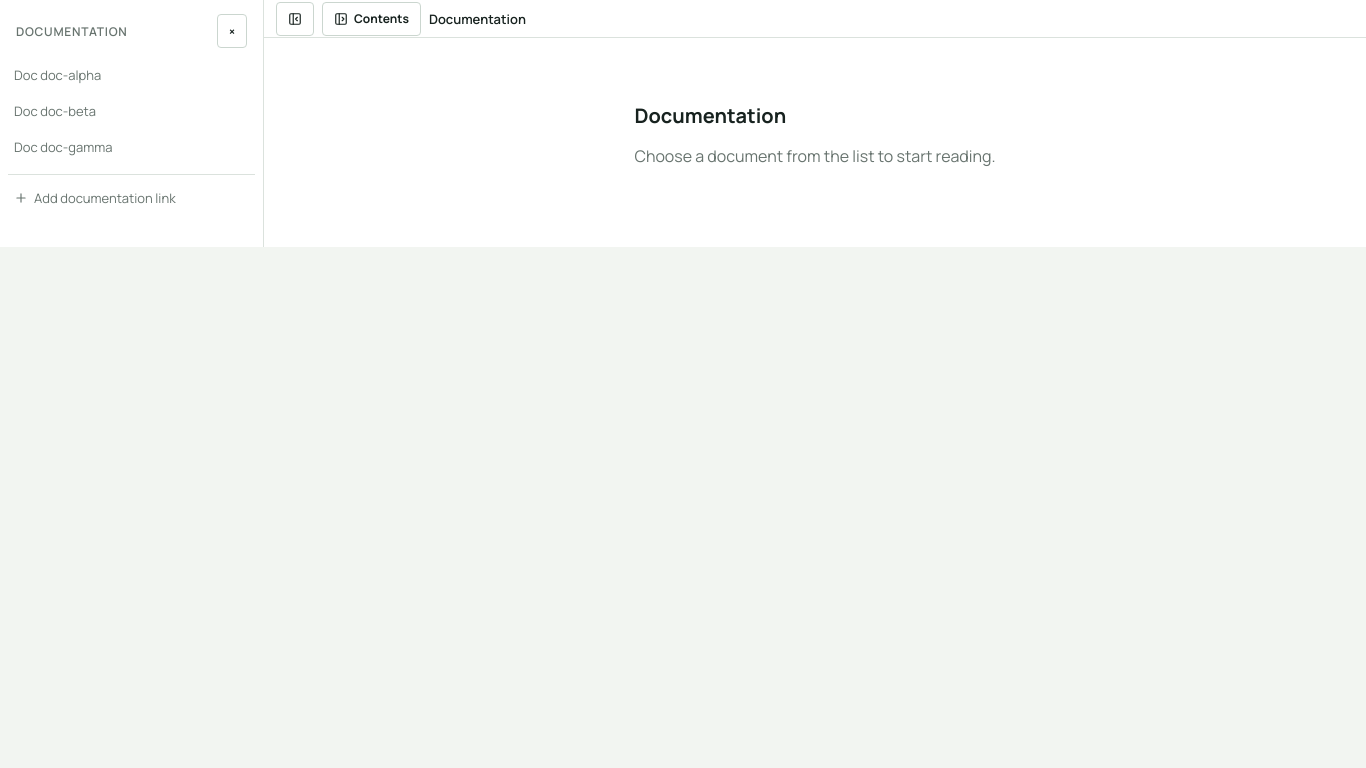
Test: DocumentationPage admin surface › refuses to submit a blank name or a non-http URL
Click the button with class "documentation-list-link" showing "Add documentation link" at x=132, y=198, box [8,183,255,213]
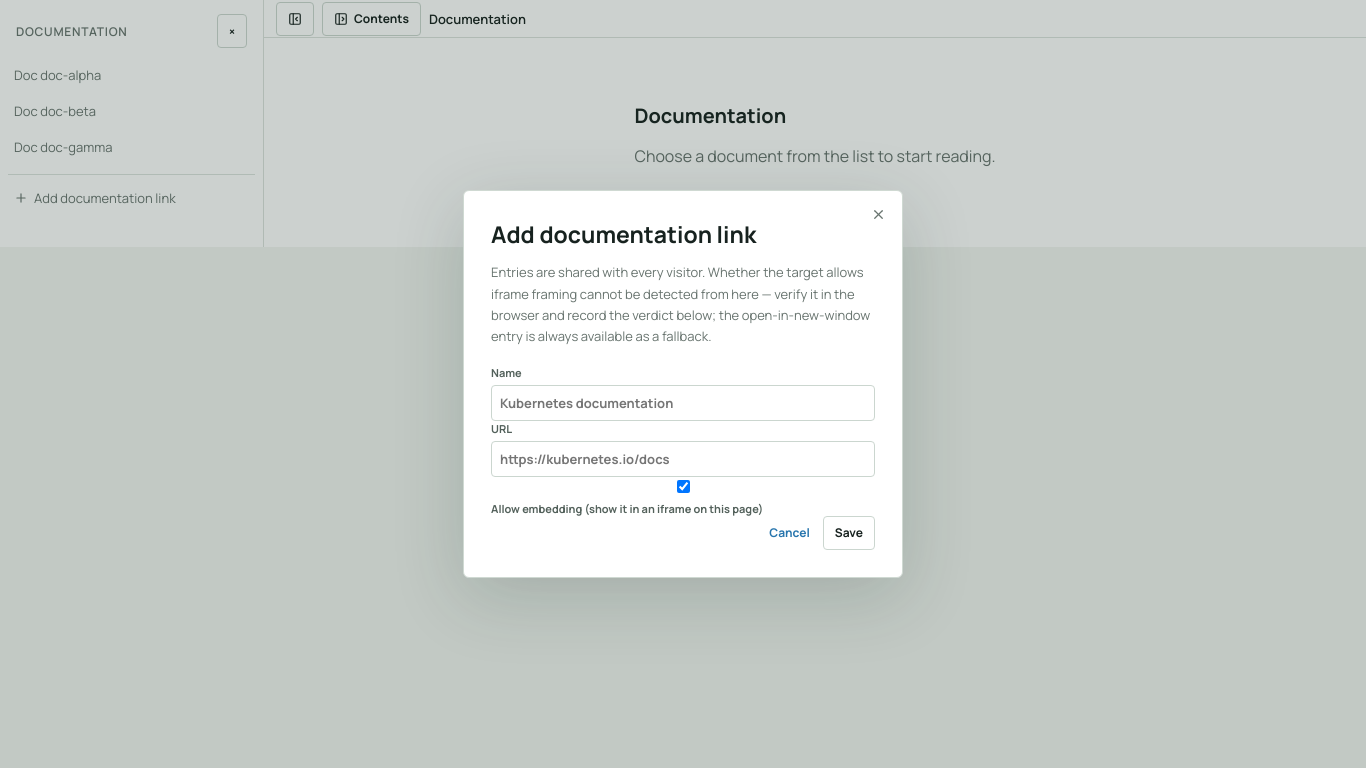
Submit the form, box [491,365,875,550]
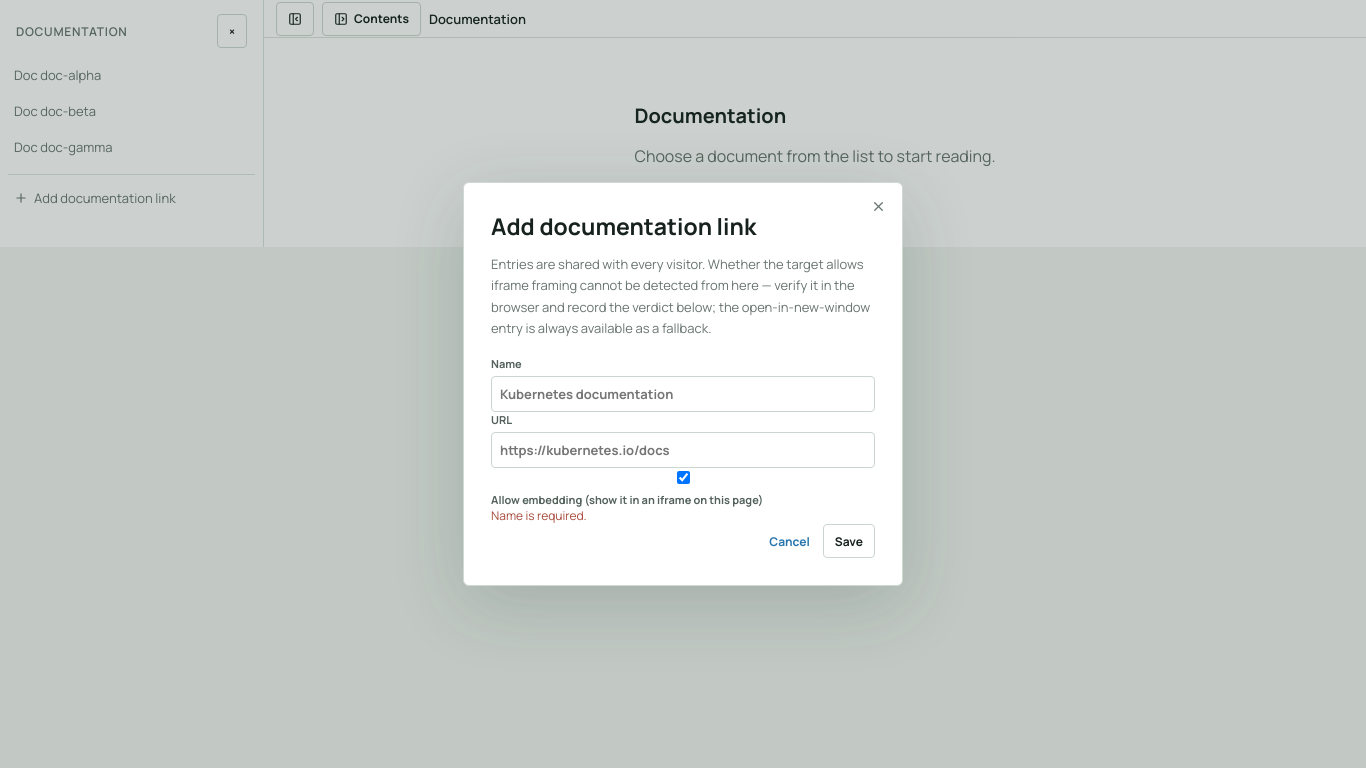
Check: the dialog with class "dialog" shows "Name is required.", box [491,507,587,524]
Type "Local mirror" into the field named "title" at x=683, y=394, box [491,376,875,412]
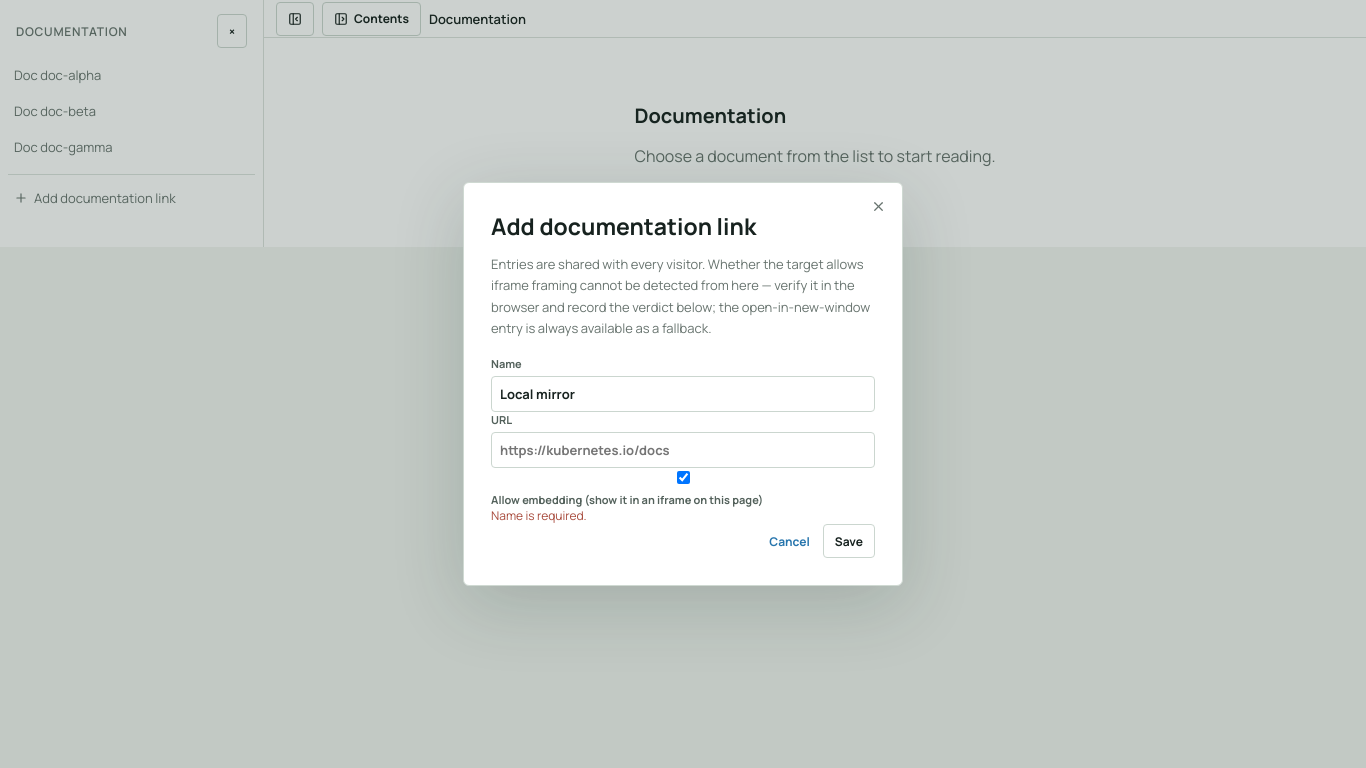
Type "ftp://mirror.internal/docs" into the field named "url" at x=683, y=450, box [491,432,875,468]
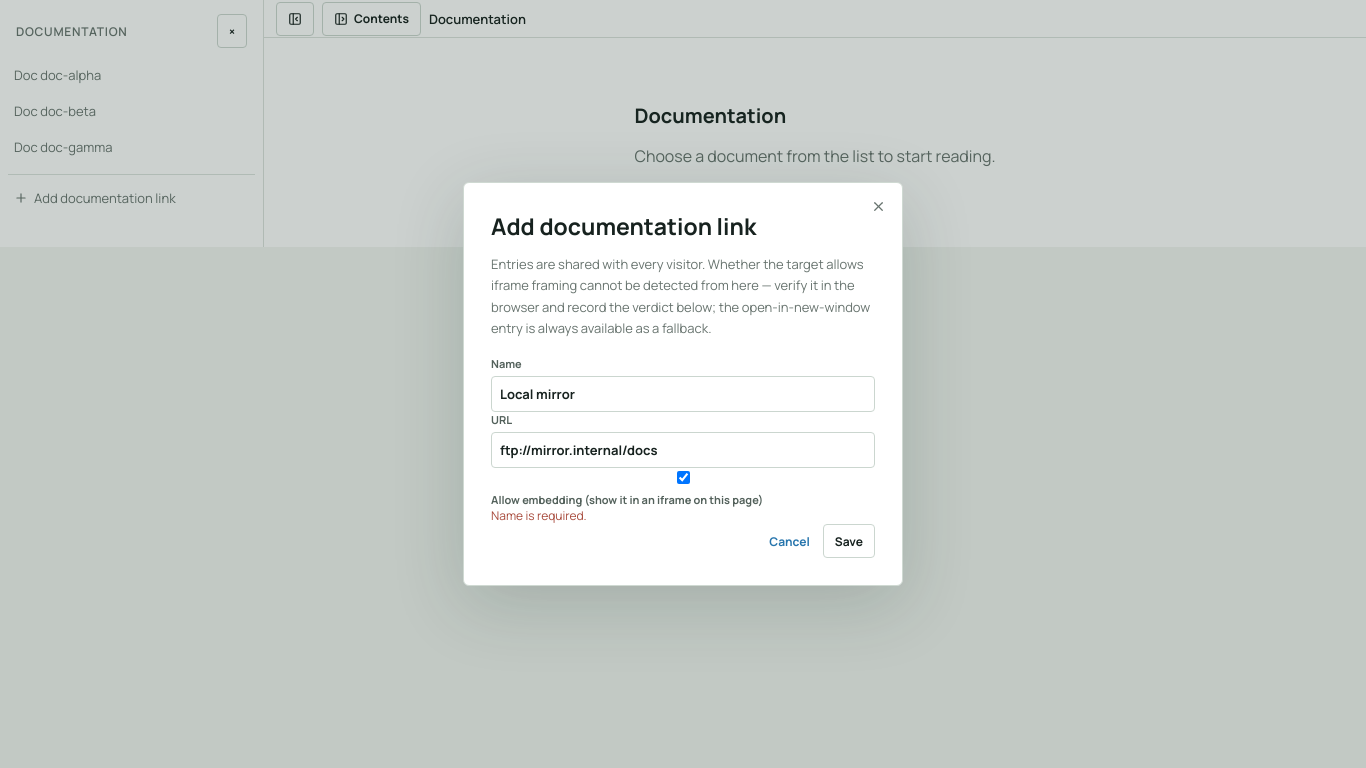
Submit the form, box [491,356,875,558]
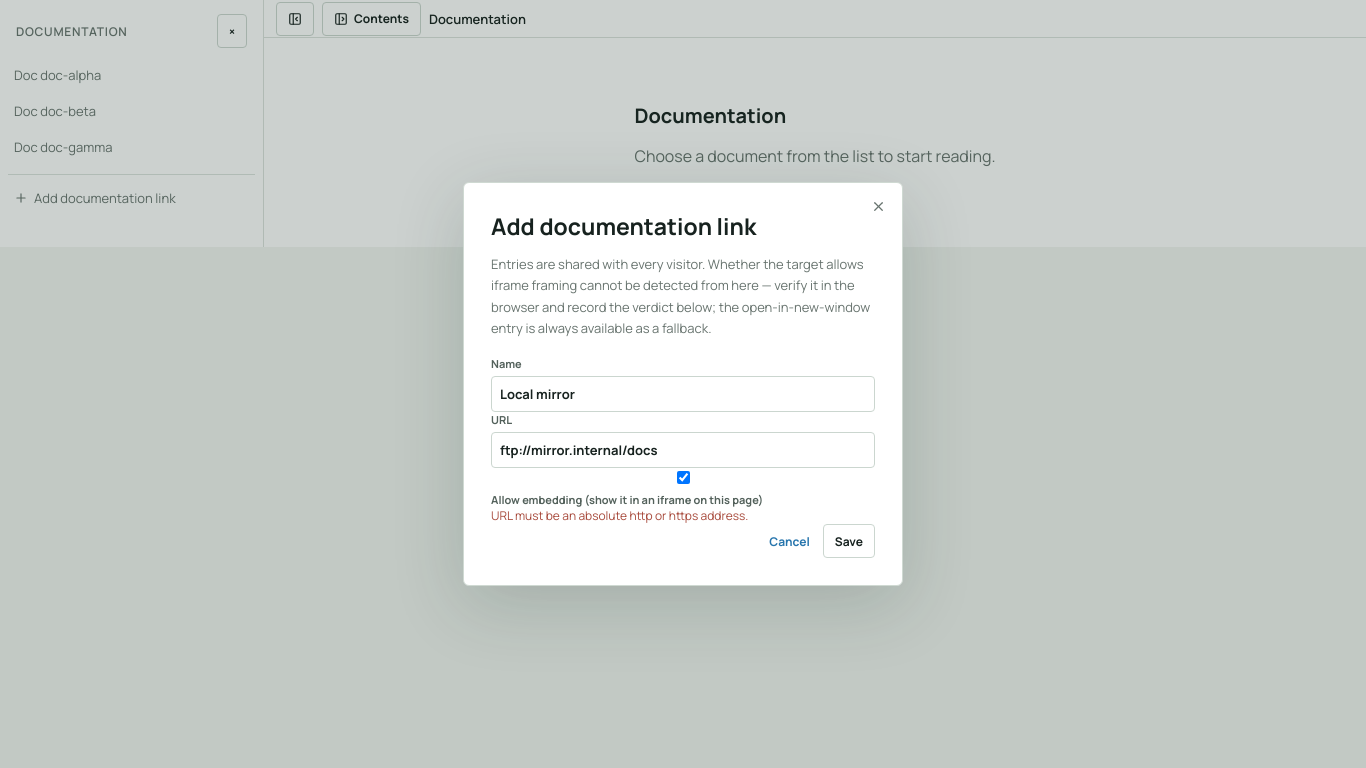
Check: the dialog with class "dialog" shows "URL must be an absolute http or https address.", box [491,507,748,524]
